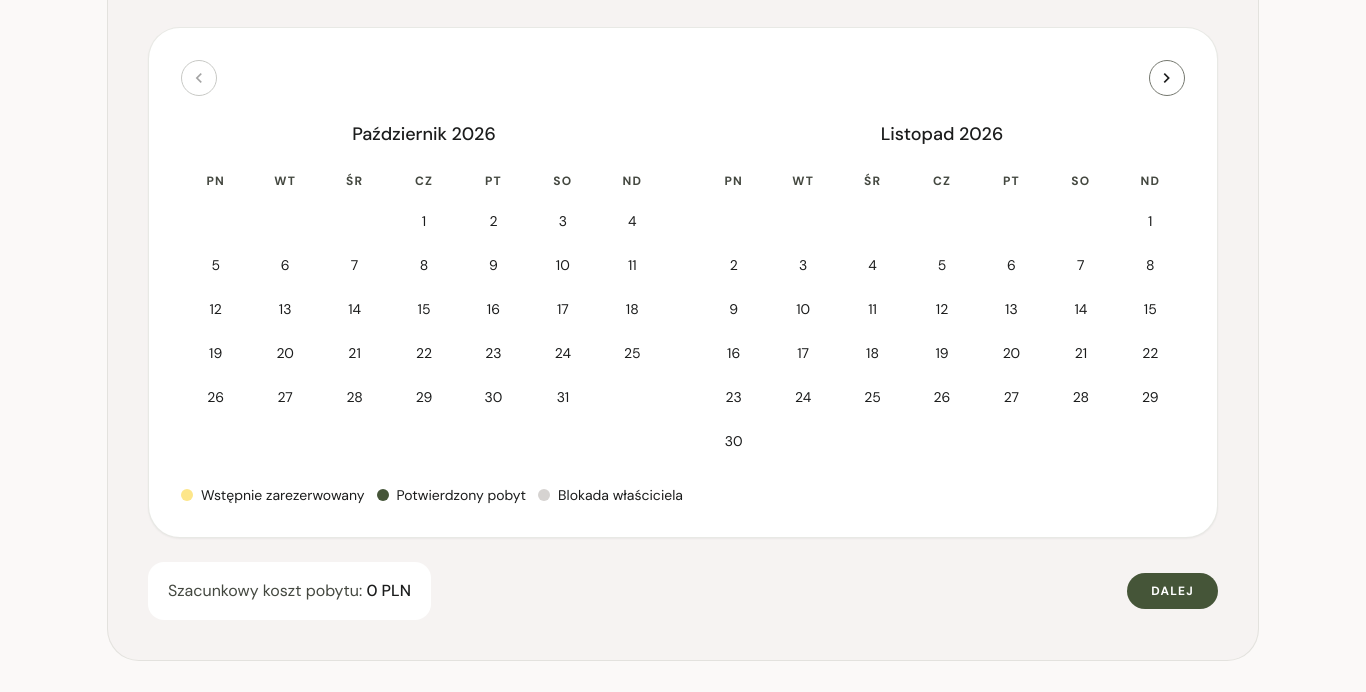
booking step 1 › prevents selecting a stay shorter than two nights
(page scrolled)
Click the 2nd button "12". click: point(942, 309)
box: [922,289,962,329]
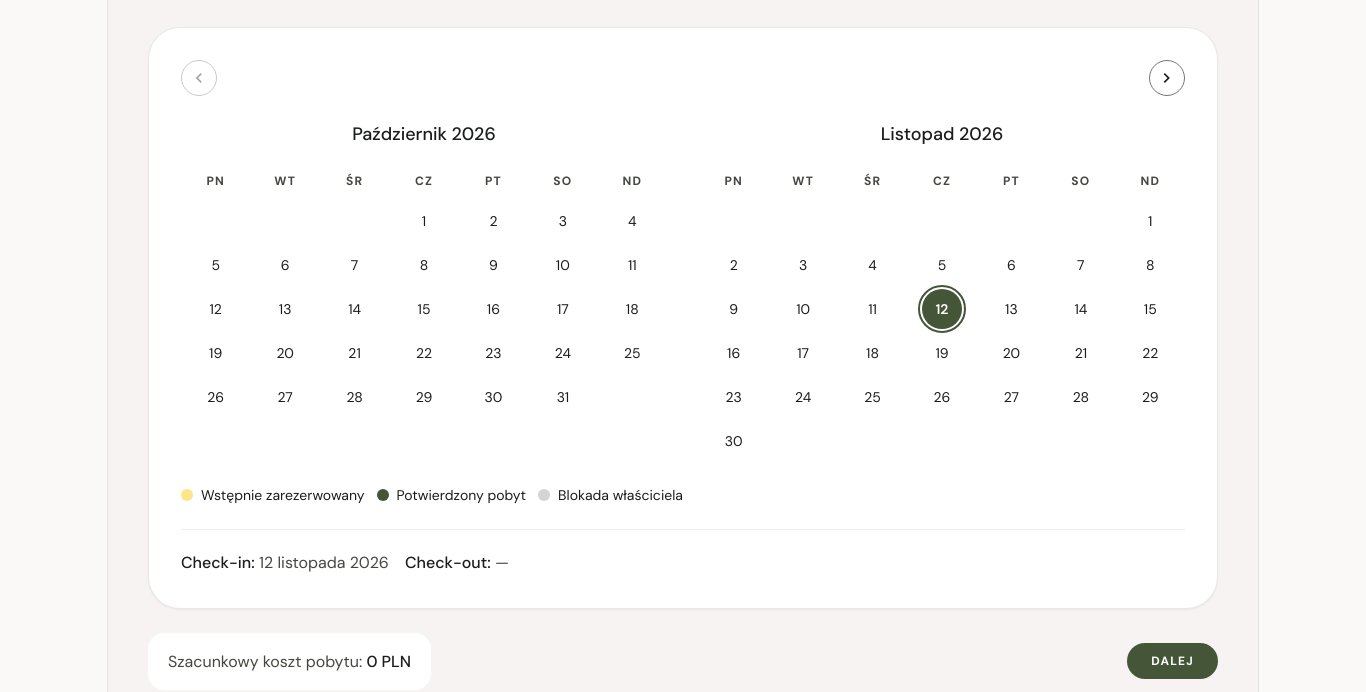
Click the 2nd button "13". click: point(1011, 309)
box: [991,289,1031,329]
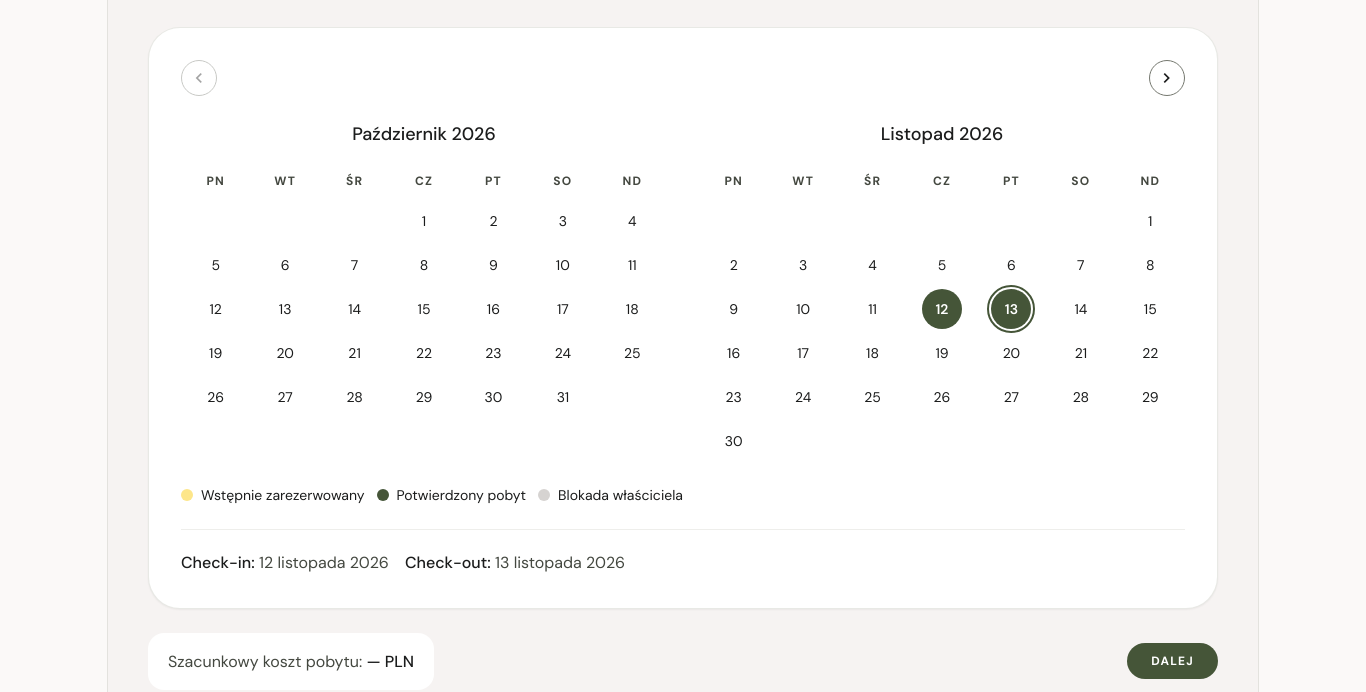
Click the button "Dalej". click: point(1173, 661)
box: [1127,643,1218,679]
(page scrolled)
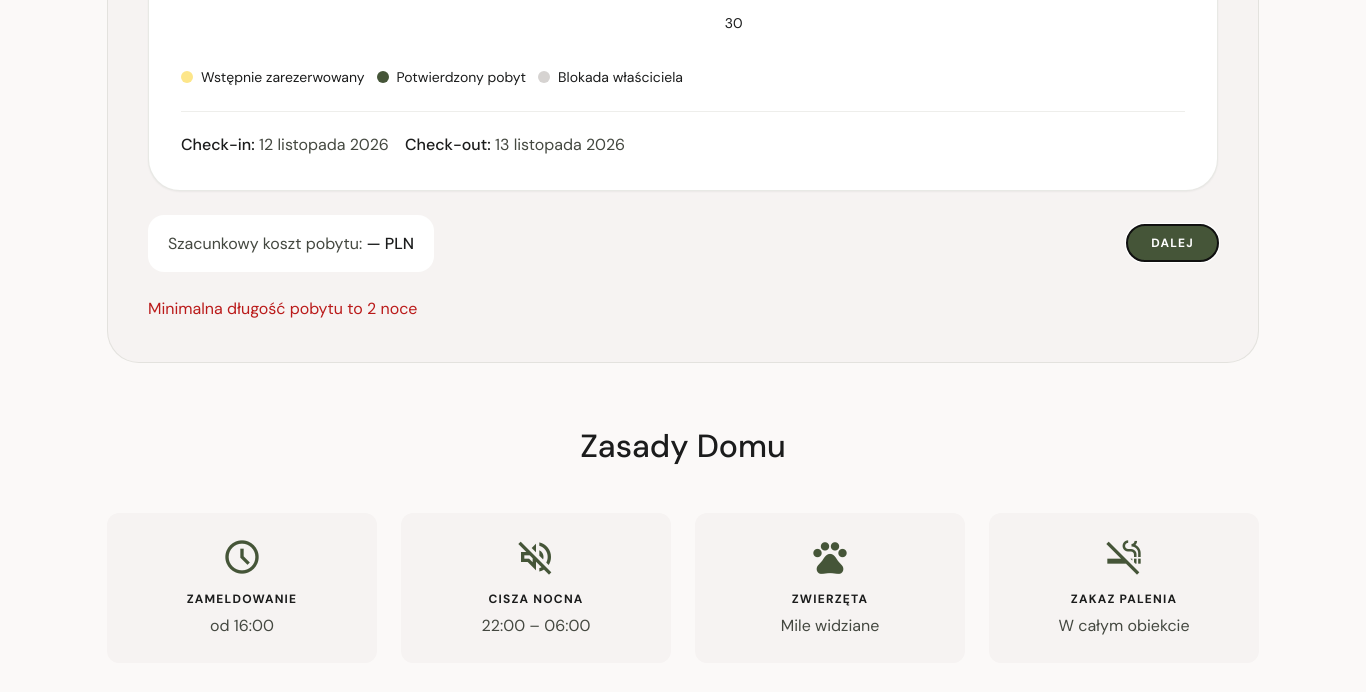
Now the text "Minimalna długość pobytu to 2 noce" is shown, box [148,298,417,319]
